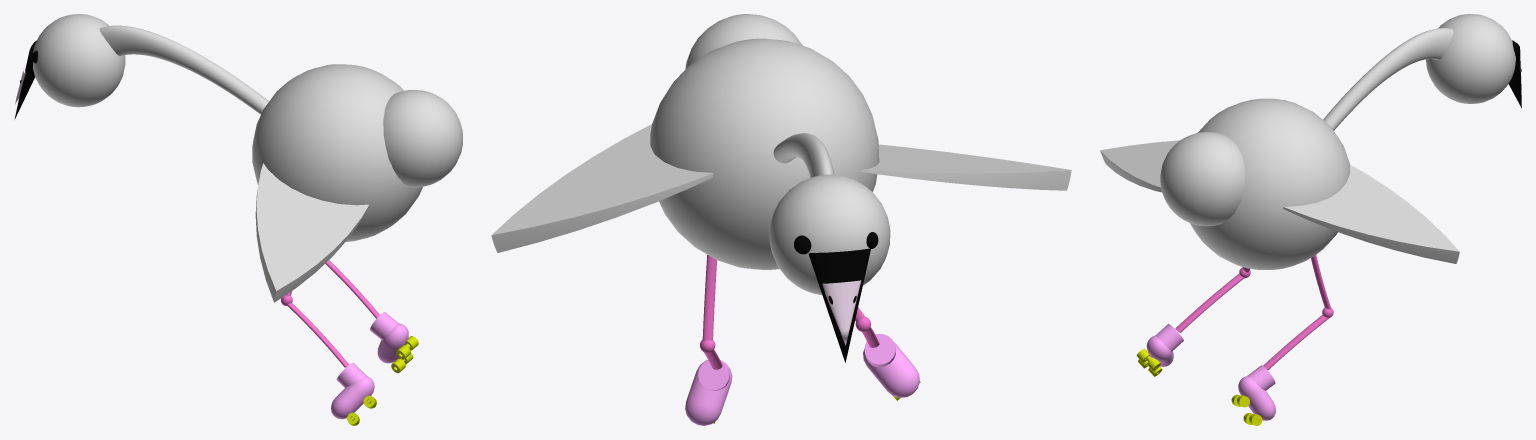
File: Shir Klein swan.gltf
3 views of the same model, side by side, from view 1: azimuth 30°, elevation 25°; view 2: azimuth 150°, elevation 25°; view 3: azimuth 270°, elevation 25° (orthographic). The views are drawn at different scales.
Visible parts, largest first — view 1: Sphere (×2), Oil Tank, Sphere.1, Neack, Capsule (×2), Cylinder (×2), Torus.2, Cone, Torus; view 2: Sphere (×2), Oil Tank.1, Oil Tank, Capsule (×2), Sphere.1, Cone, Neack, Cylinder (×2), Cone.2, Torus.5; view 3: Sphere (×2), Oil Tank.1, Sphere.1, Neack, Oil Tank, Capsule (×2), Cylinder (×2), Torus.2, Torus, Cone.
Boxes of the visible parts, x1,y1,x2,y2 form: Sphere (×2): (33, 14, 422, 241); Oil Tank: (255, 163, 369, 302); Sphere.1: (383, 90, 462, 187); Neack: (99, 25, 268, 114); Capsule (×2): (331, 323, 408, 419); Cylinder (×2): (336, 312, 398, 387); Torus.2: (287, 303, 349, 367); Cone: (14, 40, 36, 119); Torus: (325, 260, 379, 318); Sphere (×2): (650, 38, 890, 294); Oil Tank.1: (491, 124, 713, 252); Oil Tank: (861, 144, 1071, 190); Capsule (×2): (685, 342, 919, 425); Sphere.1: (685, 14, 802, 69); Cone: (808, 248, 870, 362); Neack: (773, 133, 834, 177); Cylinder (×2): (698, 334, 895, 390); Cone.2: (822, 280, 861, 345); Torus.5: (702, 255, 716, 341); Sphere (×2): (1190, 14, 1515, 269); Oil Tank.1: (1283, 164, 1459, 263); Sphere.1: (1160, 132, 1245, 226); Neack: (1323, 28, 1453, 130); Oil Tank: (1100, 140, 1179, 192); Capsule (×2): (1146, 336, 1275, 420); Cylinder (×2): (1155, 323, 1275, 390); Torus.2: (1175, 274, 1244, 332); Torus: (1263, 315, 1329, 369); Cone: (1508, 40, 1521, 108).
Bounding box in the file's own units: 4.78 × 4.77 × 5.88.
